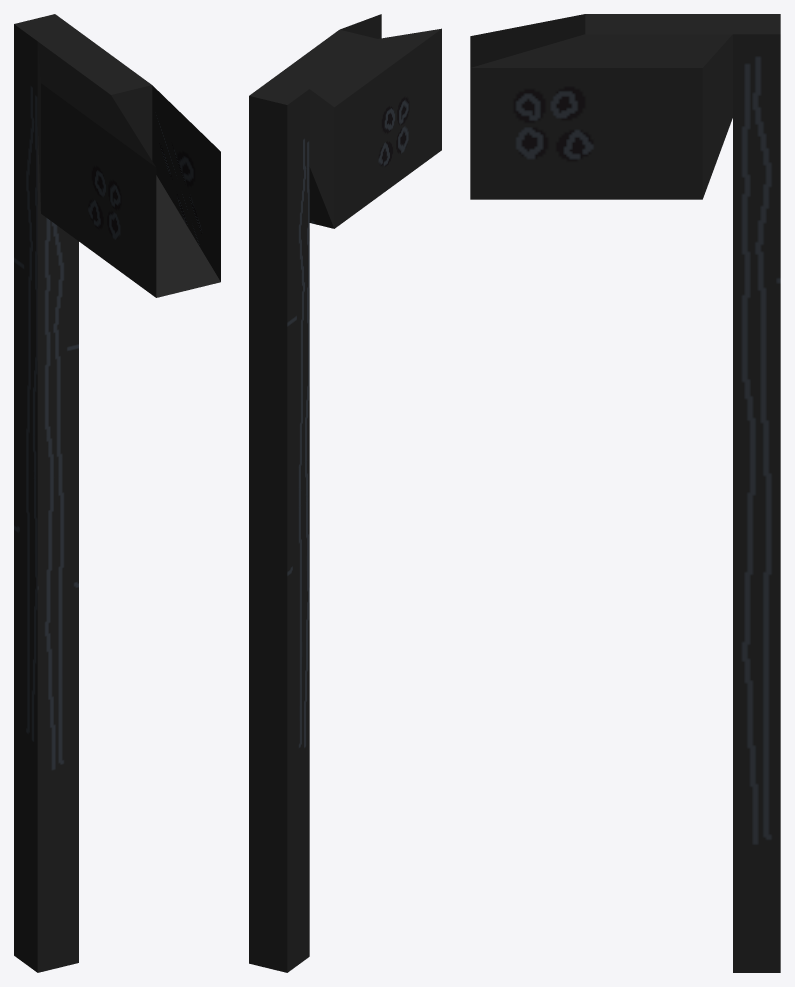
File: lamp.glb
3 views of the same model, side by side, from view 1: azimuth 30°, elevation 25°; view 2: azimuth 150°, elevation 25°; view 3: azimuth 270°, elevation 25° (orthographic). The views are drawn at different scales.
Visible parts, largest first — view 1: Cube; view 2: Cube; view 3: Cube.
Boxes of the visible parts, x1,y1,x2,y2 form: Cube: (14, 14, 220, 972); Cube: (249, 14, 441, 972); Cube: (470, 14, 780, 972).
Bounding box in the file's own units: 3.15 × 43.29 × 12.98.
1 material, 1 textured.
